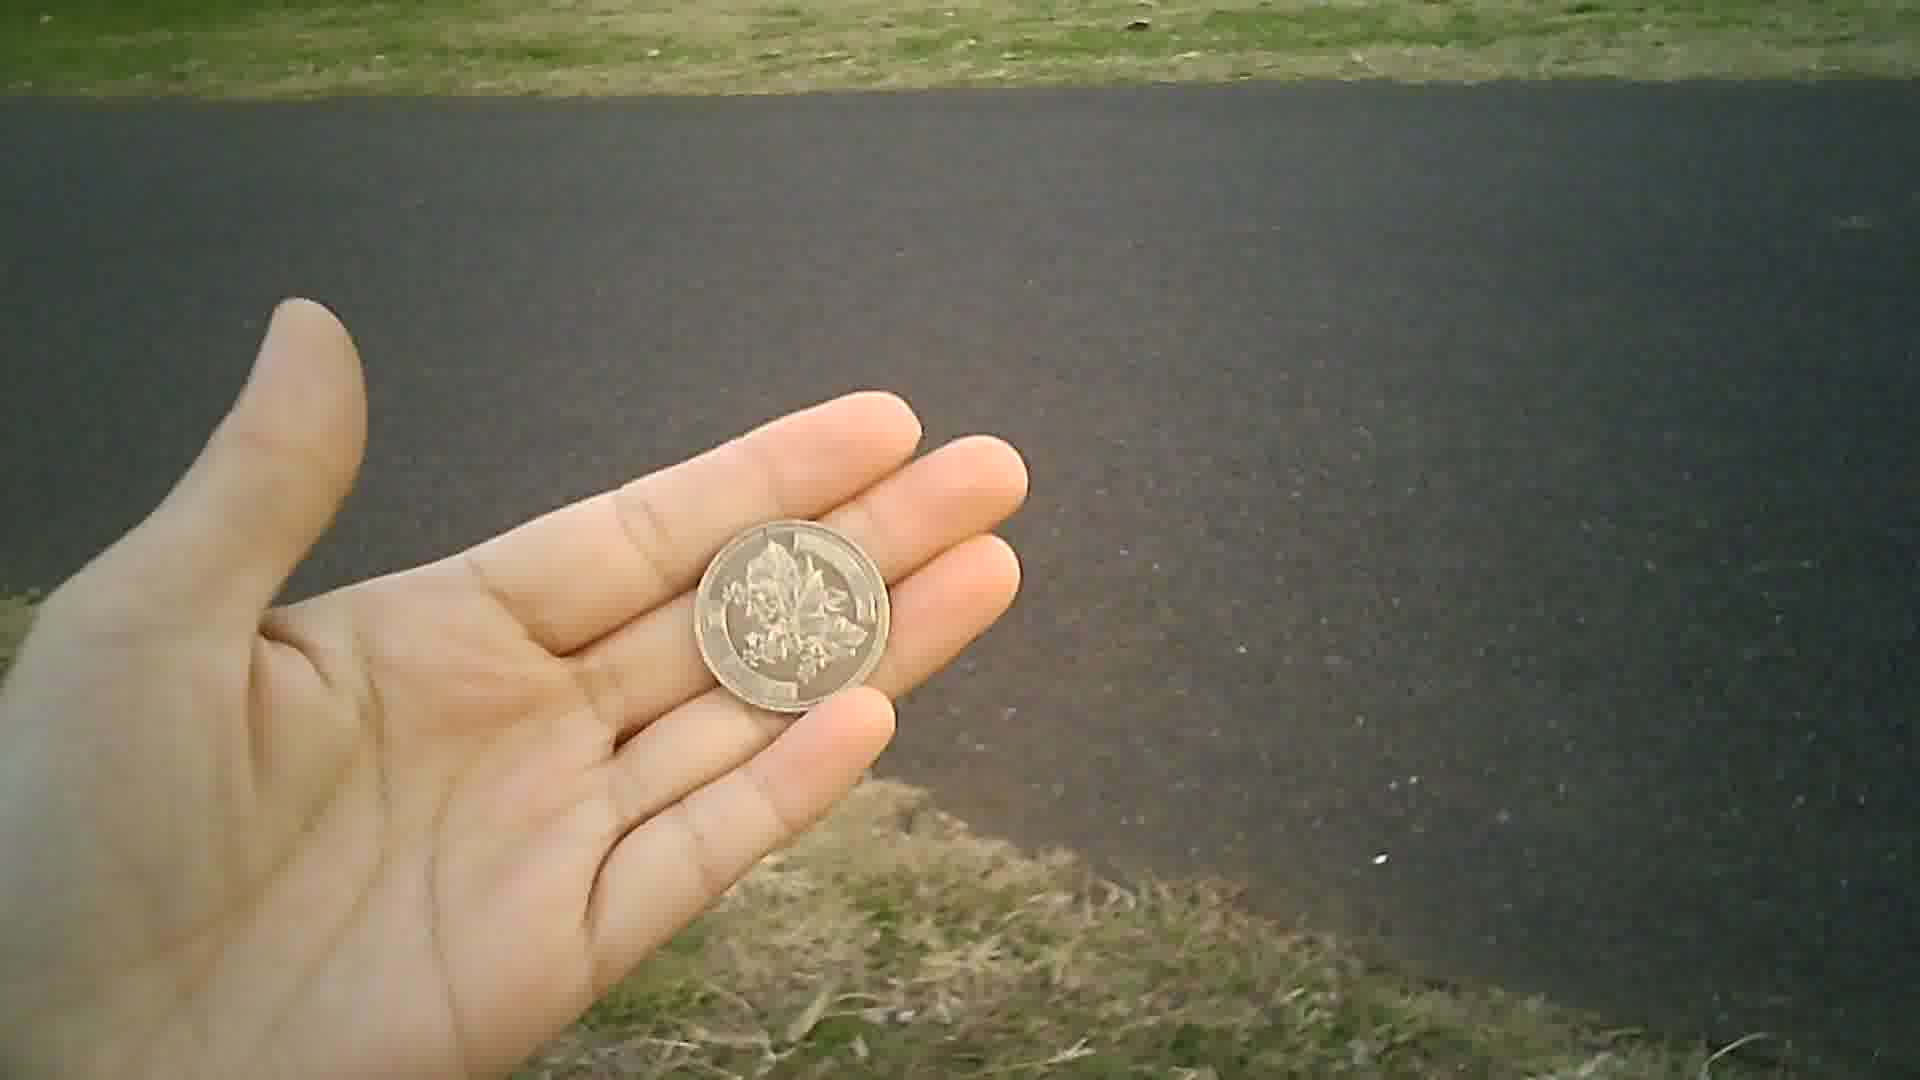500 Yen: (688, 513, 895, 707)
